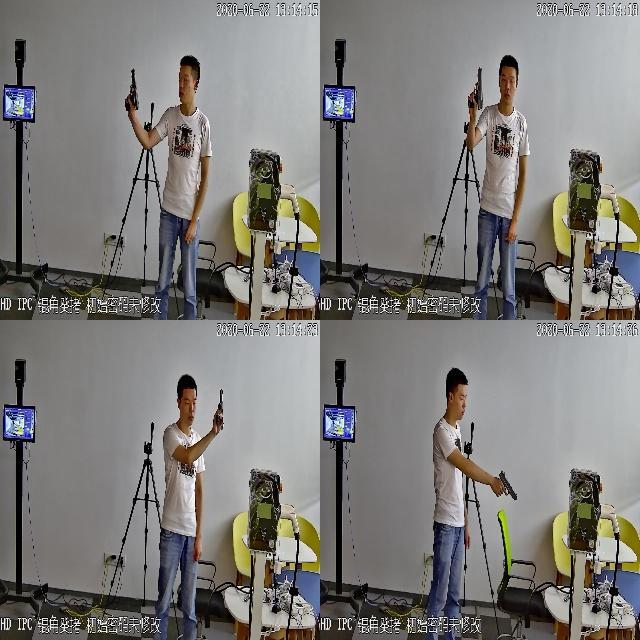gun-knife-thesis - v11 Yolov5 augmented: (489, 465, 515, 502), (465, 65, 483, 112), (121, 65, 138, 112), (210, 384, 224, 433)
